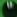black: (0, 0, 17, 17)
